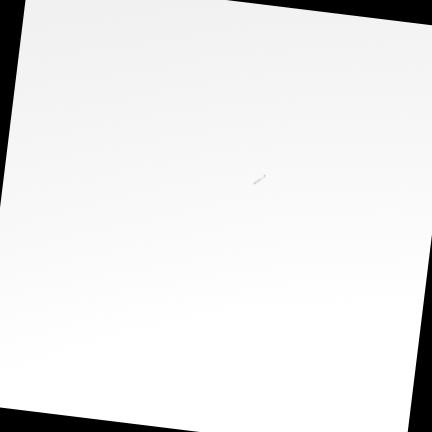Shahed: (253, 174, 265, 184)
